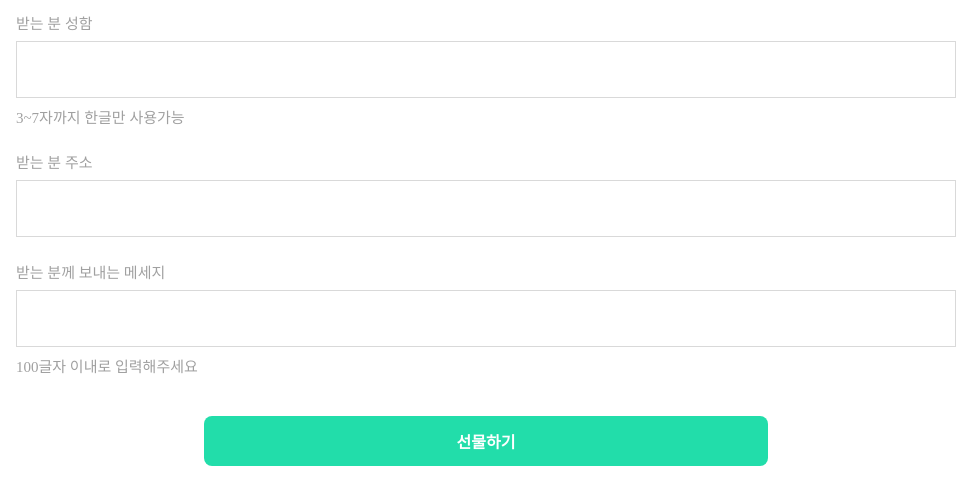
Test: OrderForm › recipient name field › when fill recipient name field with number › render order failed message
The image size is (973, 483).
Type "아샬1234" into the field labelled "받는 분 성함" at (486, 70), box [16,41,956,98]
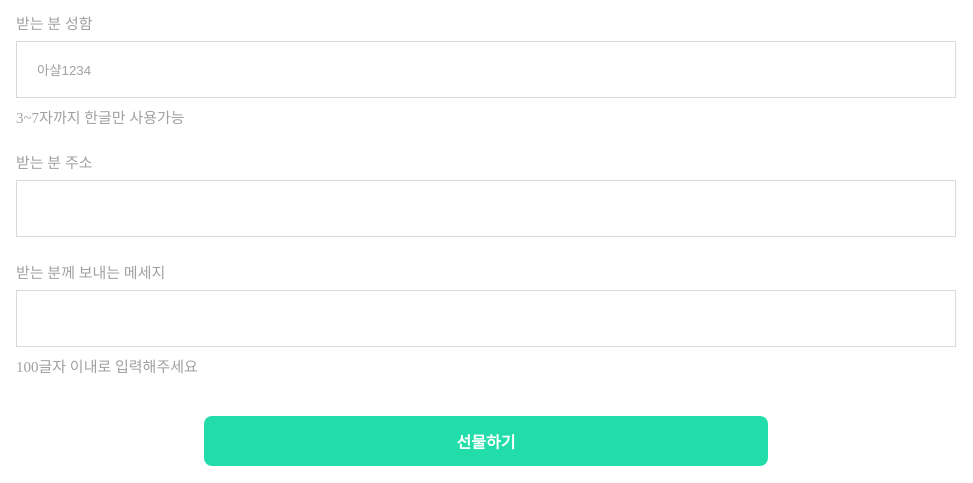
Type "서울시 조커구 아샬동" into the field labelled "받는 분 주소" at (486, 208), box [16,180,956,237]
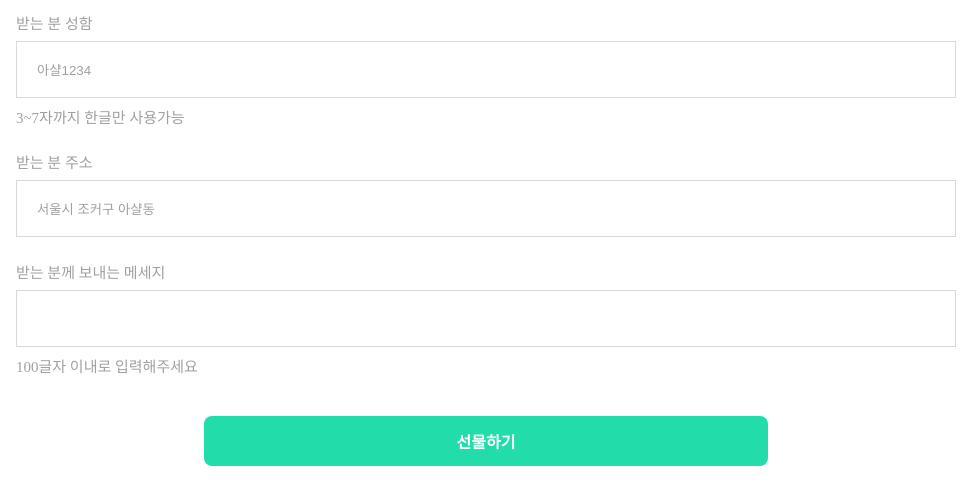
Click the button at (486, 441), box [204,416,768,466]
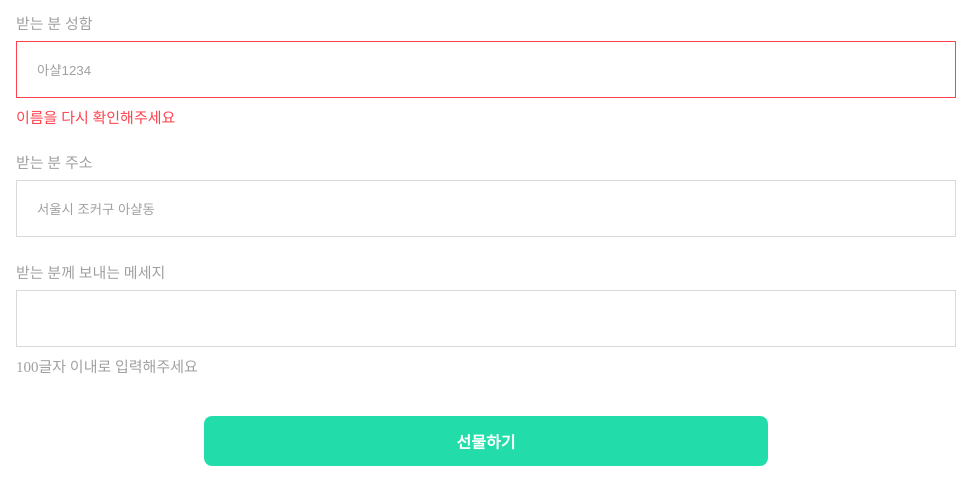
Expected: the text "이름을 다시 확인해주세요" is shown, [16,110,175,126]
